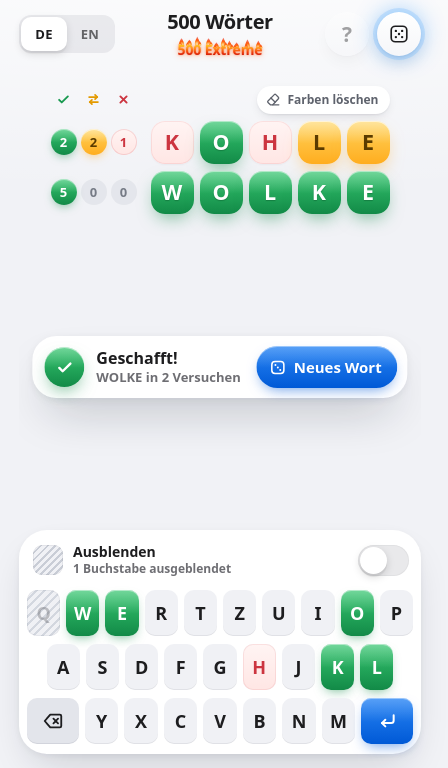
Test: Farben löschen › die grüne Gewinnzeile, Hinweis-Buchstaben und die Schraffur bleiben
Click the button "Farben löschen" at x=323, y=100, box [257,86,390,114]
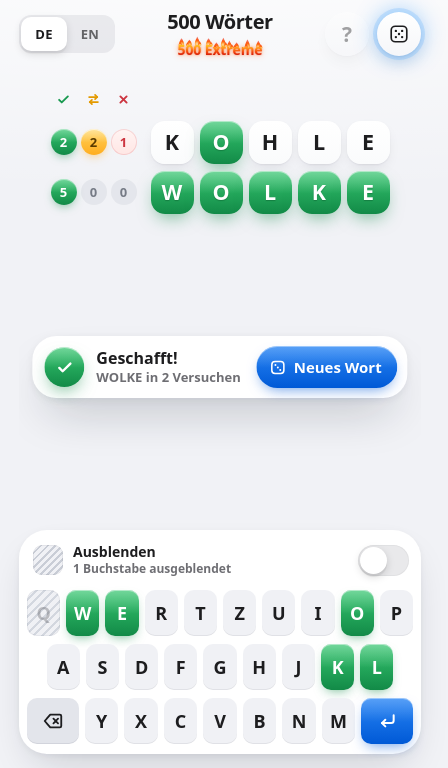
expect the button named "O, Hinweis" is shown: met, box [200,120,242,164]
expect the button named "K, ohne Markierung" is shown: met, box [150,120,194,164]
